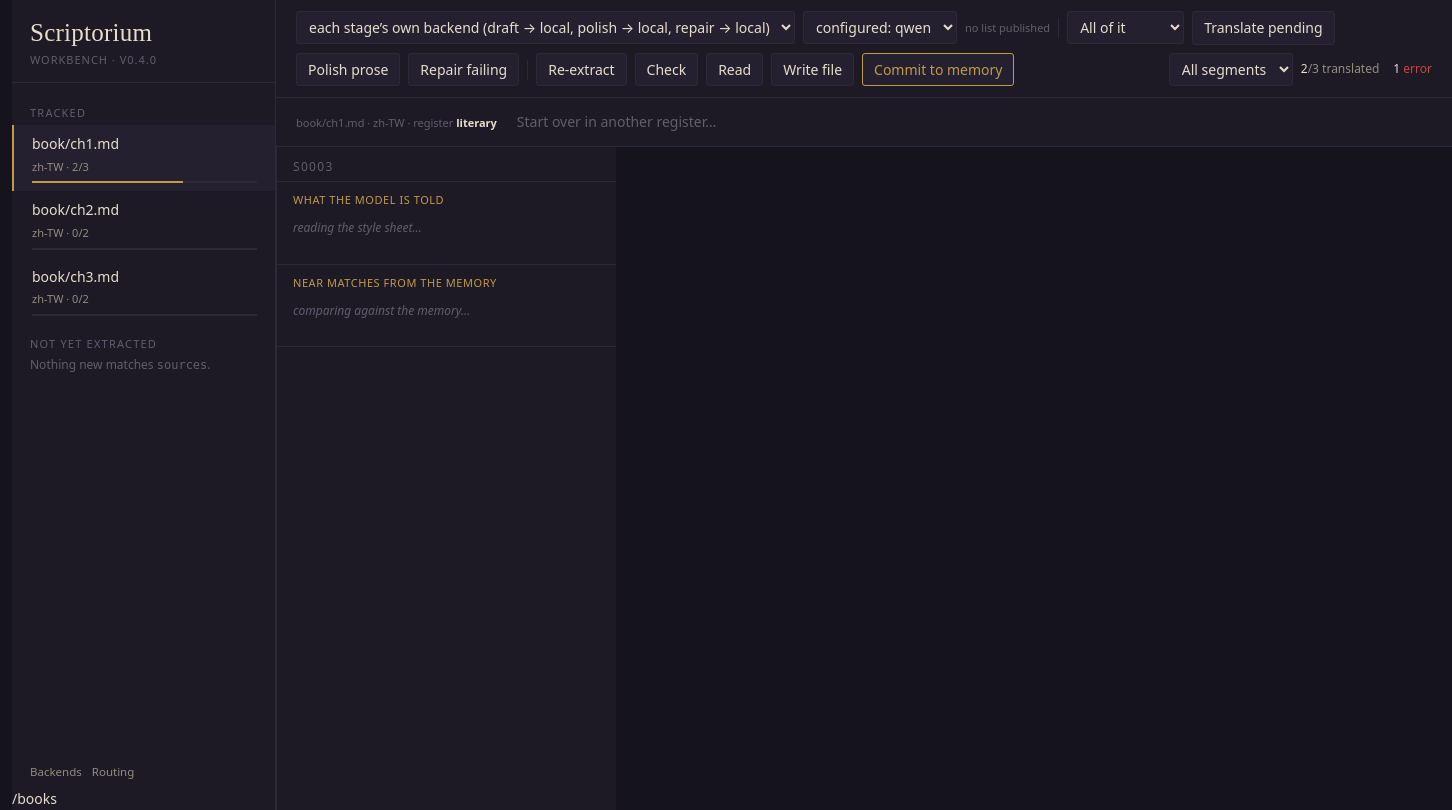
Test case: moving between segments › returns to each document at its own paragraph, never the other one's
The image size is (1452, 810).
expect the heading "s0003" is shown: met, box [277,147,616,182]
expect the text "/3 translated" is shown: met, box [1301,60,1379,79]
Click the button "book/ch3.md zh-TW · 0/2": click(76, 276) [12,258,275,324]
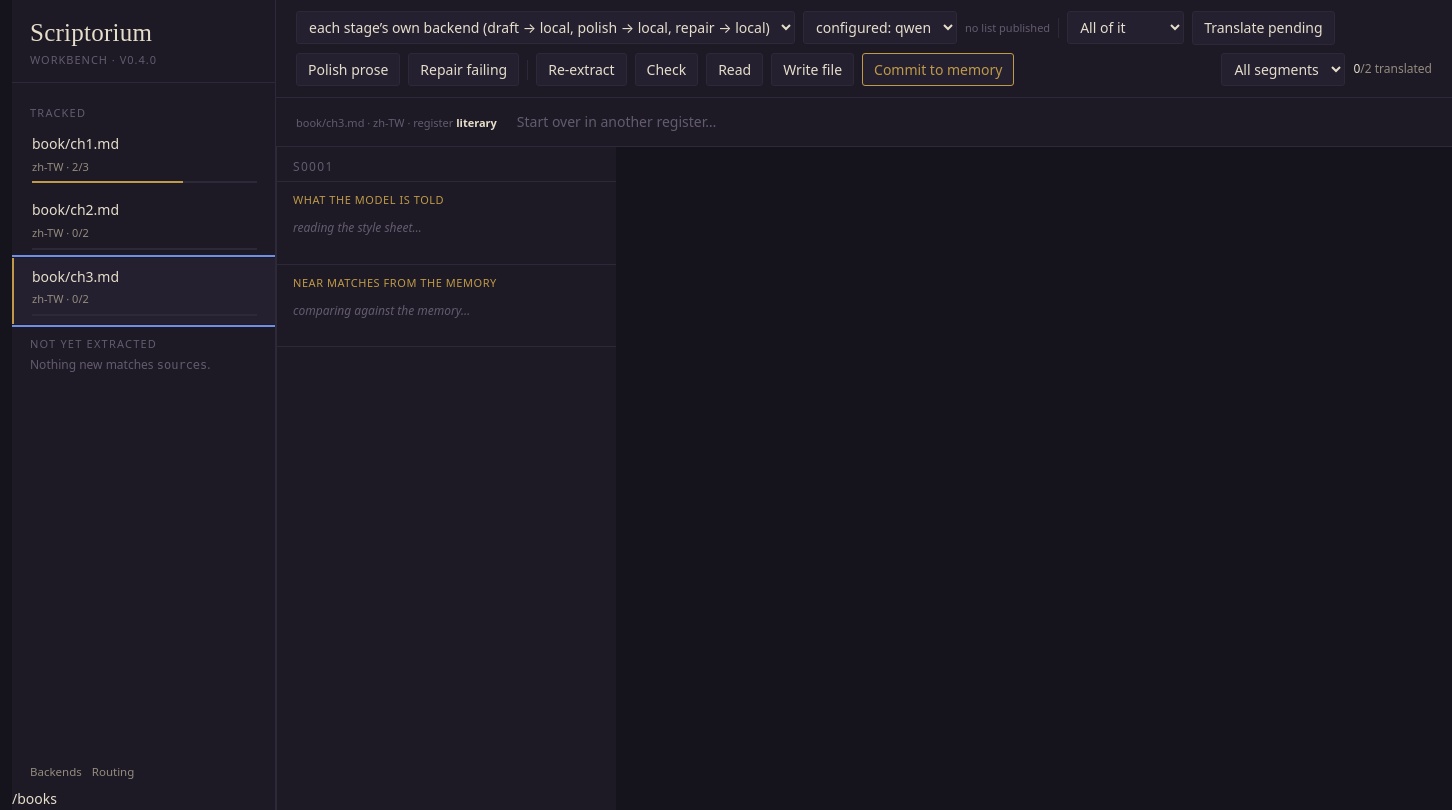
expect the text "/2 translated" is shown: met, box [1353,60,1432,79]
expect the heading "s0001" is shown: met, box [277,147,616,182]
Click the button "book/ch1.md zh-TW · 2/3": click(76, 144) [12,125,275,191]
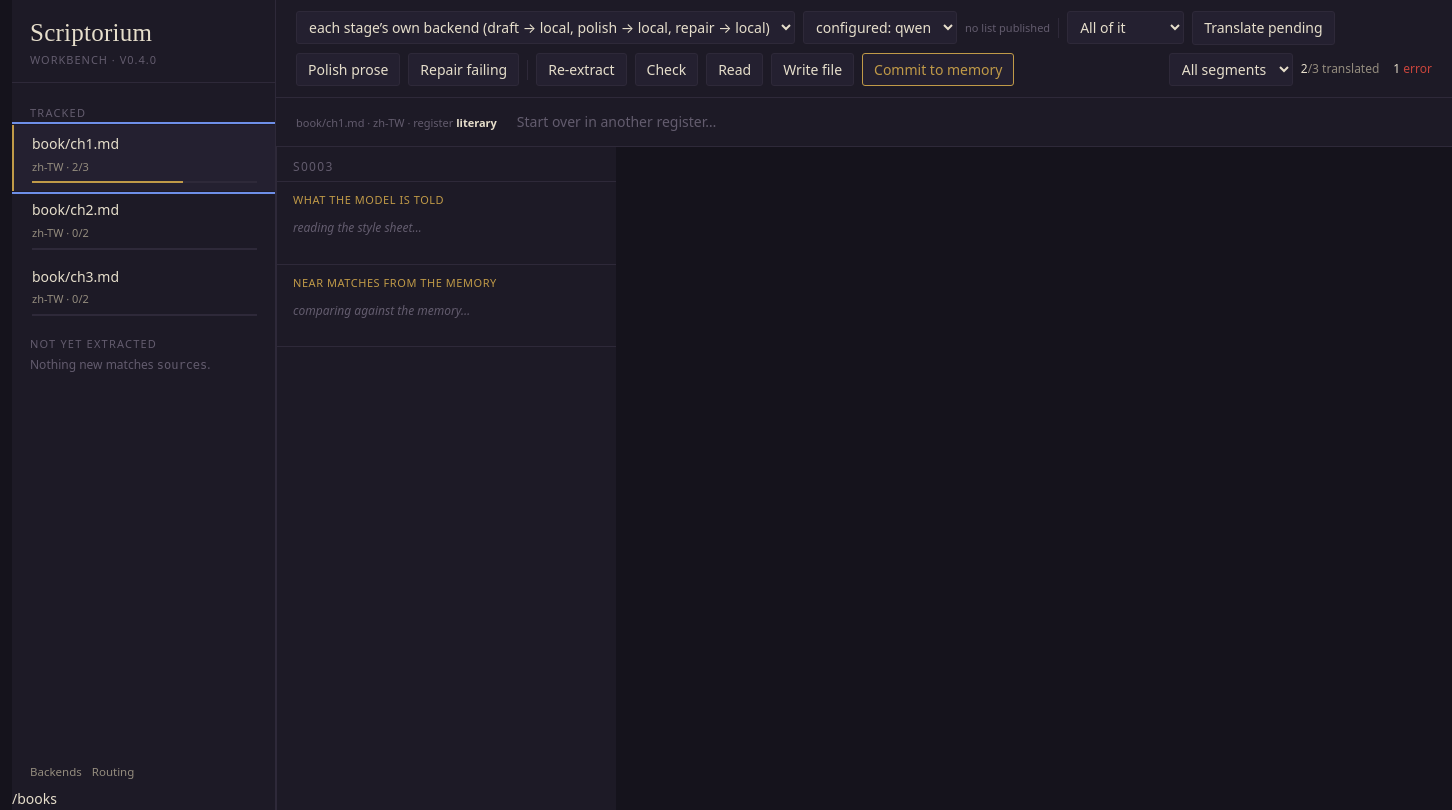
expect the heading "s0003" is shown: met, box [277,147,616,182]
expect the text "/3 translated" is shown: met, box [1301,60,1379,79]
Click the button "book/ch3.md zh-TW · 0/2": click(76, 276) [12,258,275,324]
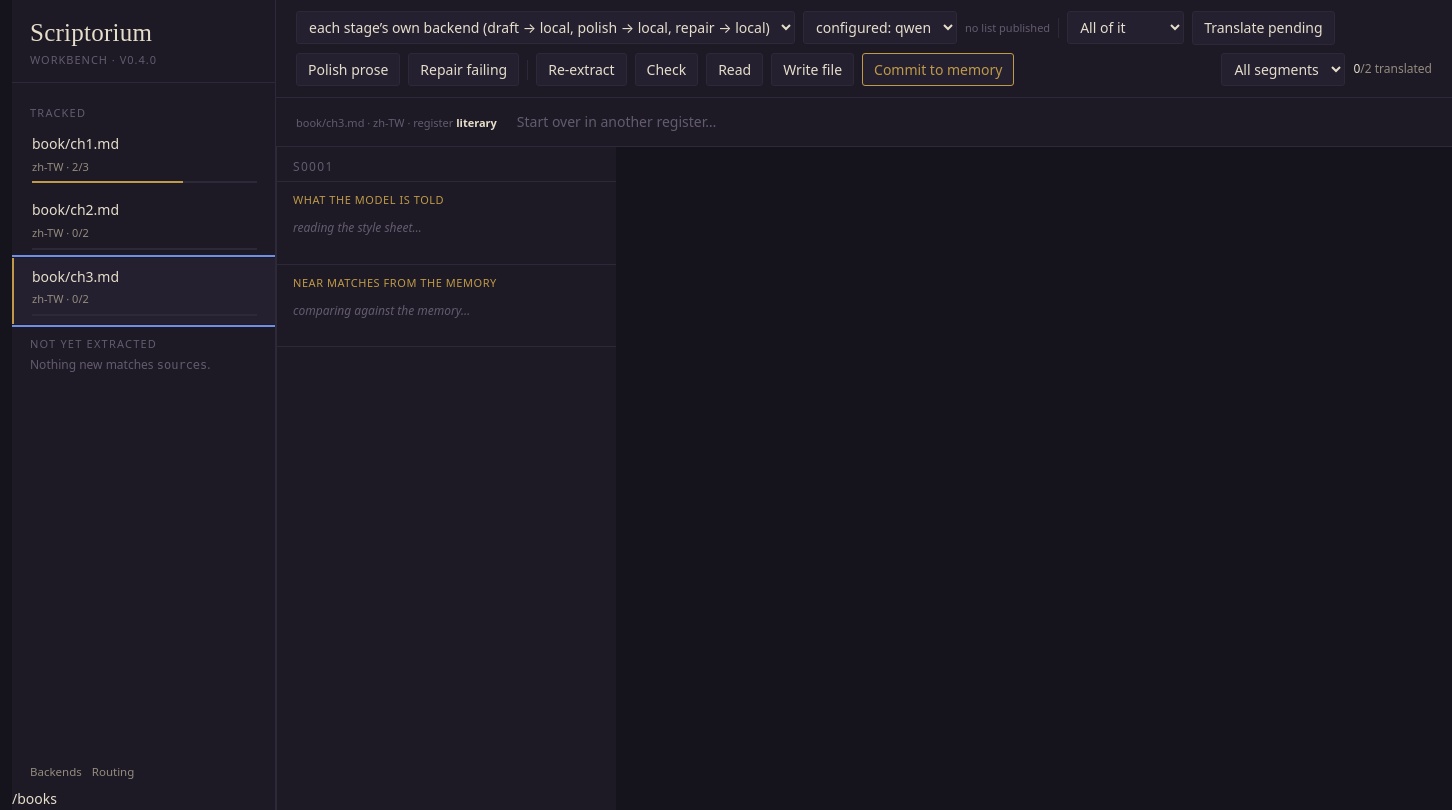
expect the heading "s0001" is shown: met, box [277,147,616,182]
